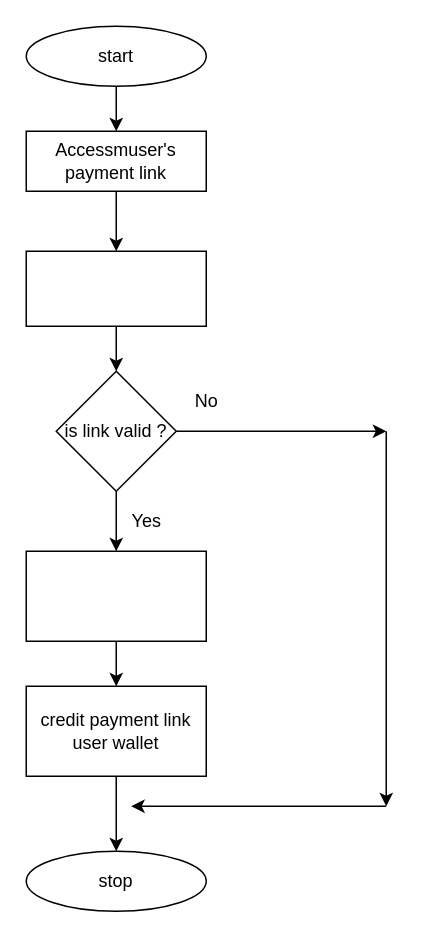
The diagram is 425 pixels wide and 938 high, and some of its shapes have lost their labels. The shapes that lost their labels are listed below. From the top down, each one's box as (x1, y1, x2, y2) in pixels, then its label:
(25, 250, 206, 326): customer enters payment details
(25, 550, 206, 641): debit customer payment details
